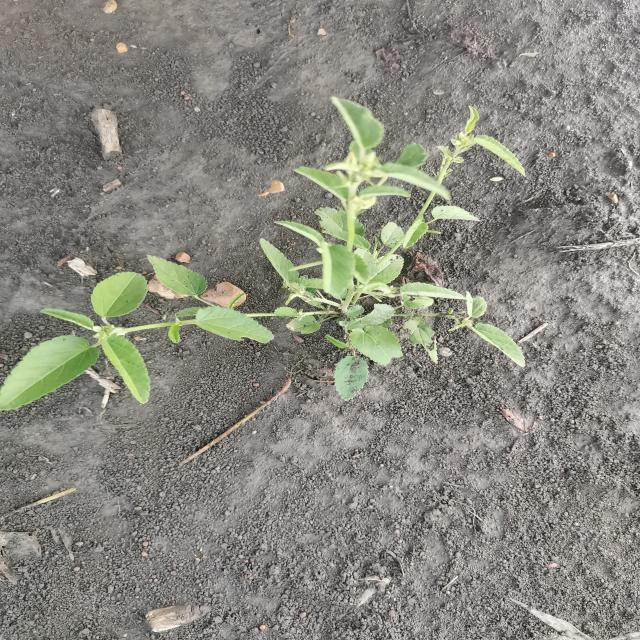PricklySida: (1, 93, 532, 415)
